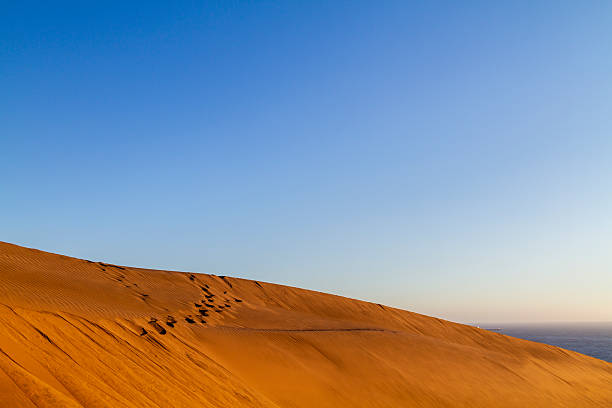human_foot_print: (134, 319, 160, 336), (182, 309, 193, 329), (197, 304, 205, 330), (204, 297, 220, 308), (207, 289, 218, 303), (166, 318, 178, 329)
